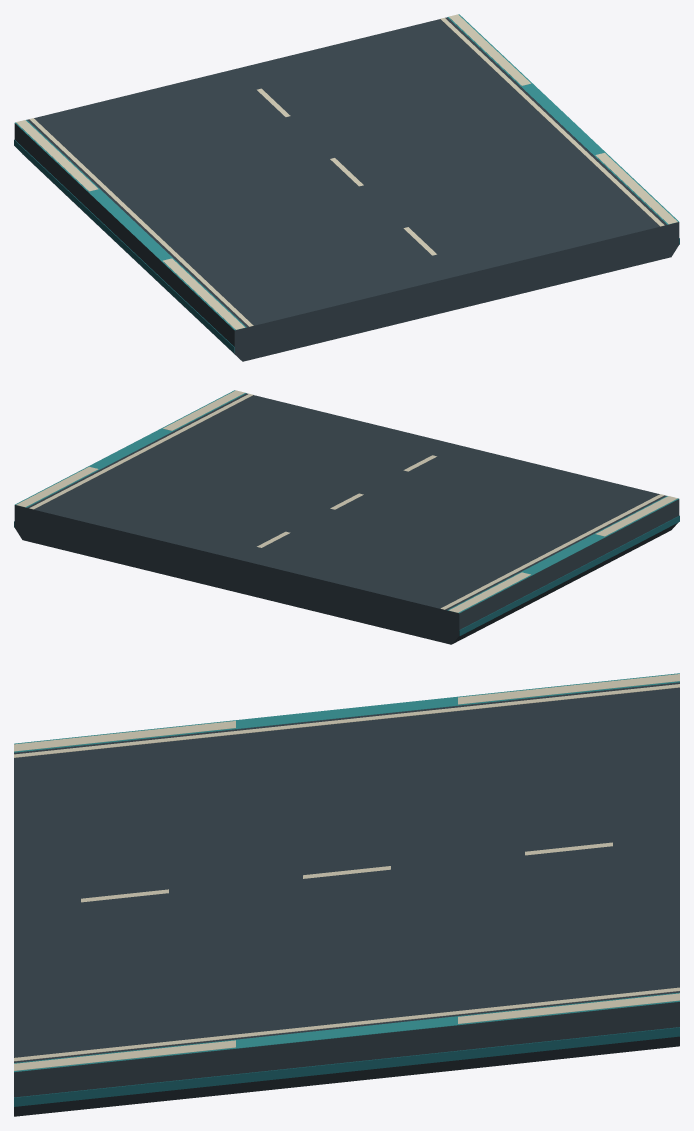
File: track_hill_01.glb
3 renders of one model, top to bottom at view 1: azimuth 30°, elevation 25°; view 2: azimuth 150°, elevation 25°; view 3: azimuth 270°, elevation 25°, orthographic. The views are drawn at different scales.
Parts seen in each view (by area): view 1: track_hill_01__Surface; view 2: track_hill_01__Surface; view 3: track_hill_01__Surface.
Part boxes in pixels (x1,y1,x2,y2): track_hill_01__Surface: (14, 14, 679, 361); track_hill_01__Surface: (14, 390, 679, 644); track_hill_01__Surface: (14, 673, 679, 1116).
Bounding box in the file's own units: 14.04 × 2.41 × 12.
